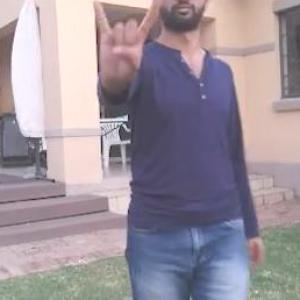takeoff-hand: (86, 0, 176, 99)
